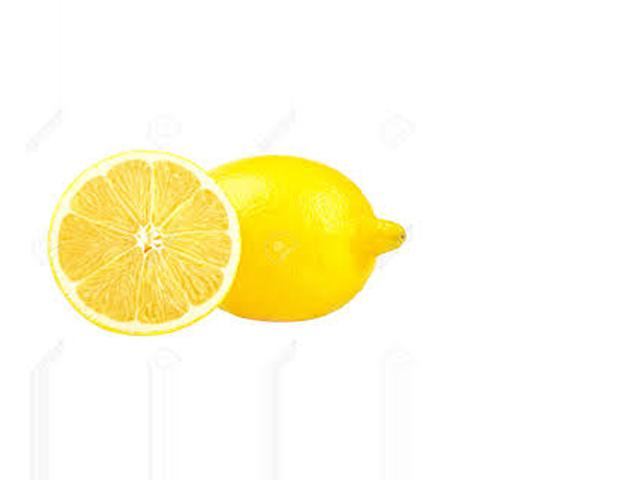lemon: (182, 144, 405, 347)
